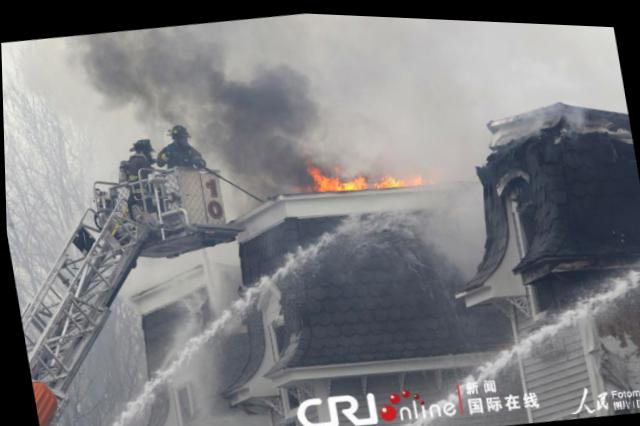fire: (309, 172, 339, 190), (367, 170, 397, 186), (391, 167, 419, 182), (339, 171, 365, 187), (302, 157, 320, 179)
